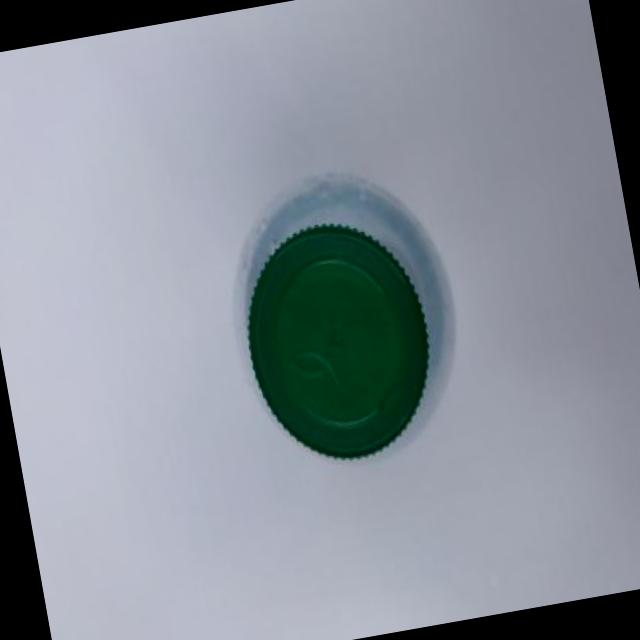Trash: (226, 206, 454, 478)
